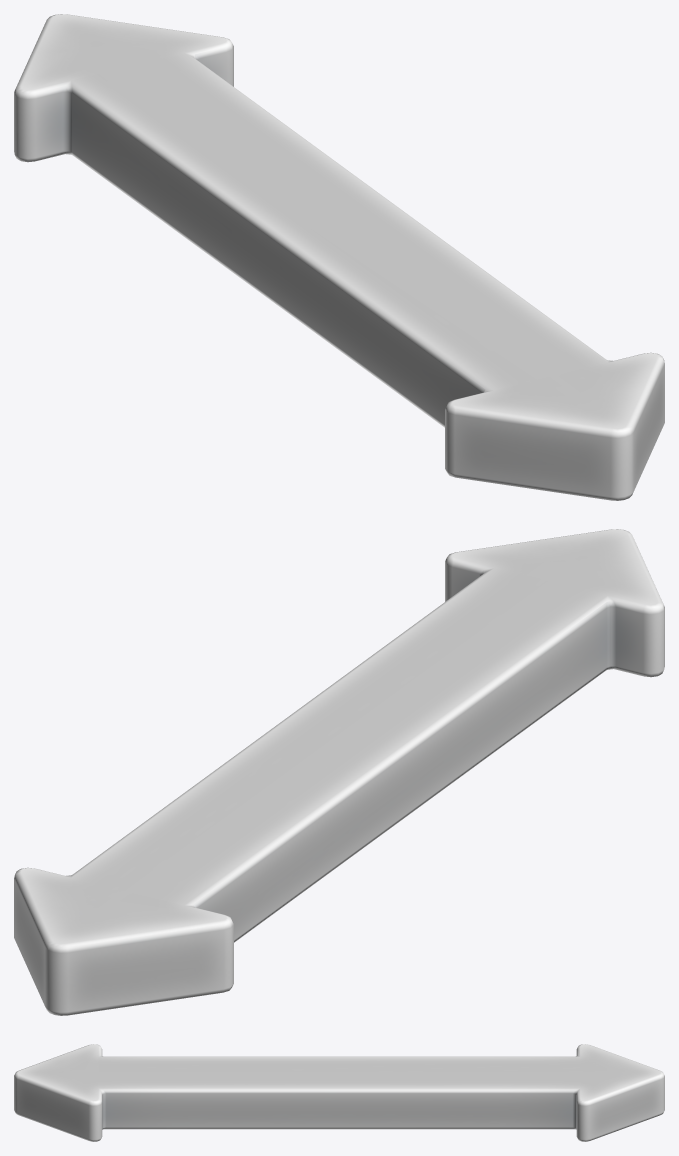
Rendered from Arrow_02.fbx.
The picture shows the model from 3 angles, top to bottom: view 1: azimuth 30°, elevation 25°; view 2: azimuth 150°, elevation 25°; view 3: azimuth 270°, elevation 25°; orthographic projection. The views are drawn at different scales.
Parts seen in each view (by area): view 1: Arrow; view 2: Arrow; view 3: Arrow.
Part boxes in pixels (x1,y1,x2,y2): Arrow: [14, 14, 664, 500]; Arrow: [14, 529, 664, 1015]; Arrow: [14, 1044, 664, 1141].
Size of the model in its own units: 0.3489 by 0.1106 by 1.6.
1 material, 1 textured.
